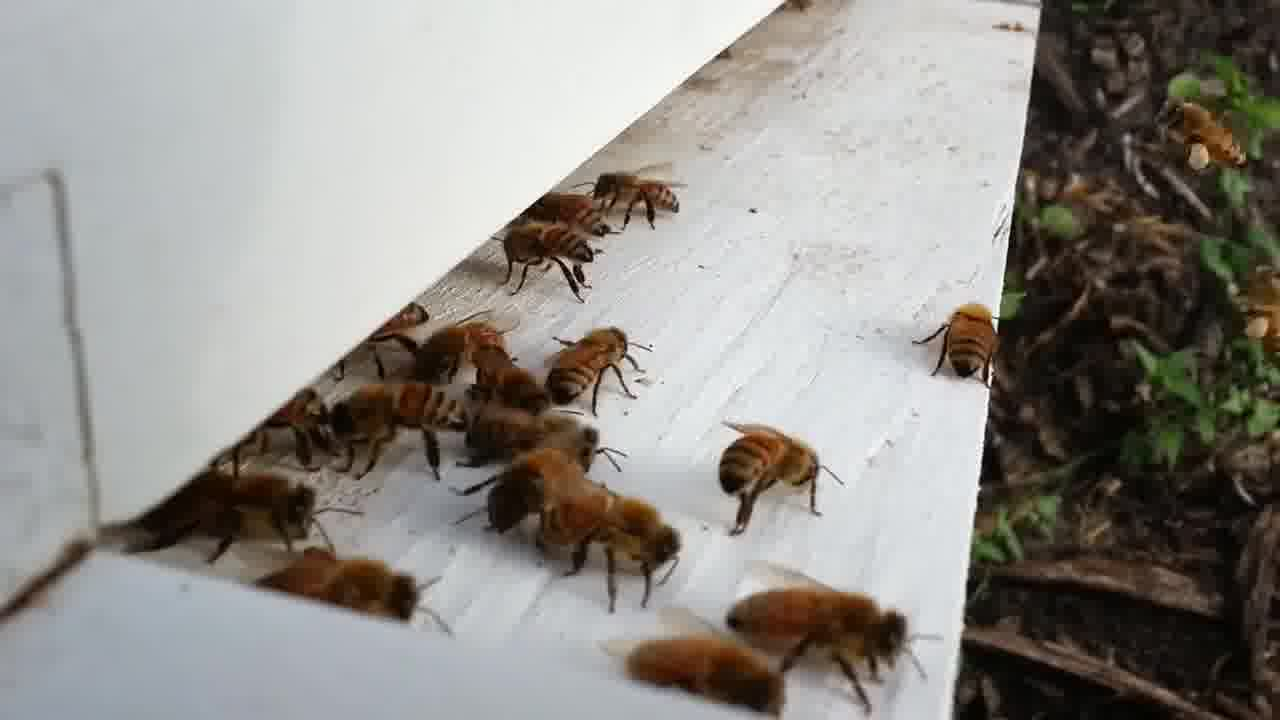pollen: (1156, 91, 1253, 174)
